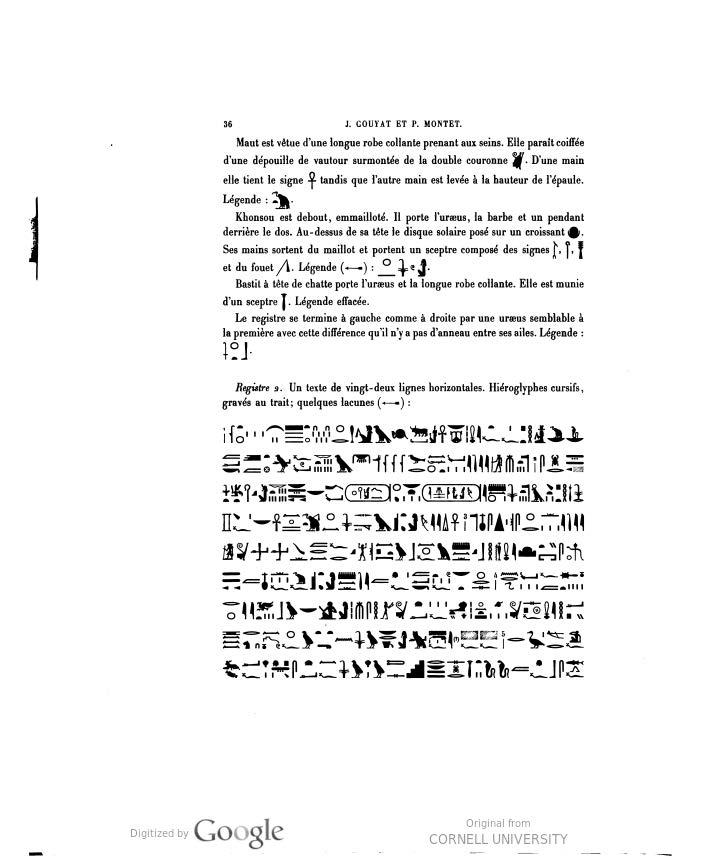circle: (421, 478, 481, 506), (345, 478, 396, 506)
